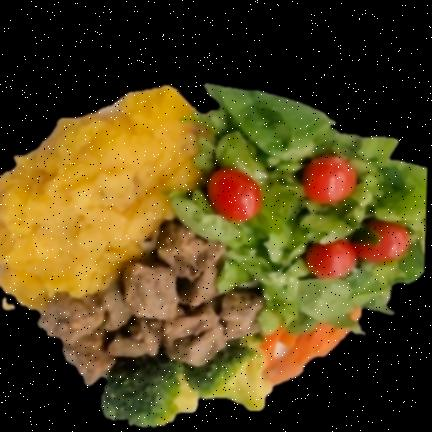broccoli: (101, 332, 270, 427)
carrot: (262, 328, 347, 385)
meat: (39, 221, 265, 386)
potato: (0, 87, 201, 315)
salad: (170, 85, 427, 336)
tomato: (303, 216, 409, 278), (207, 167, 263, 222), (301, 155, 356, 204)
